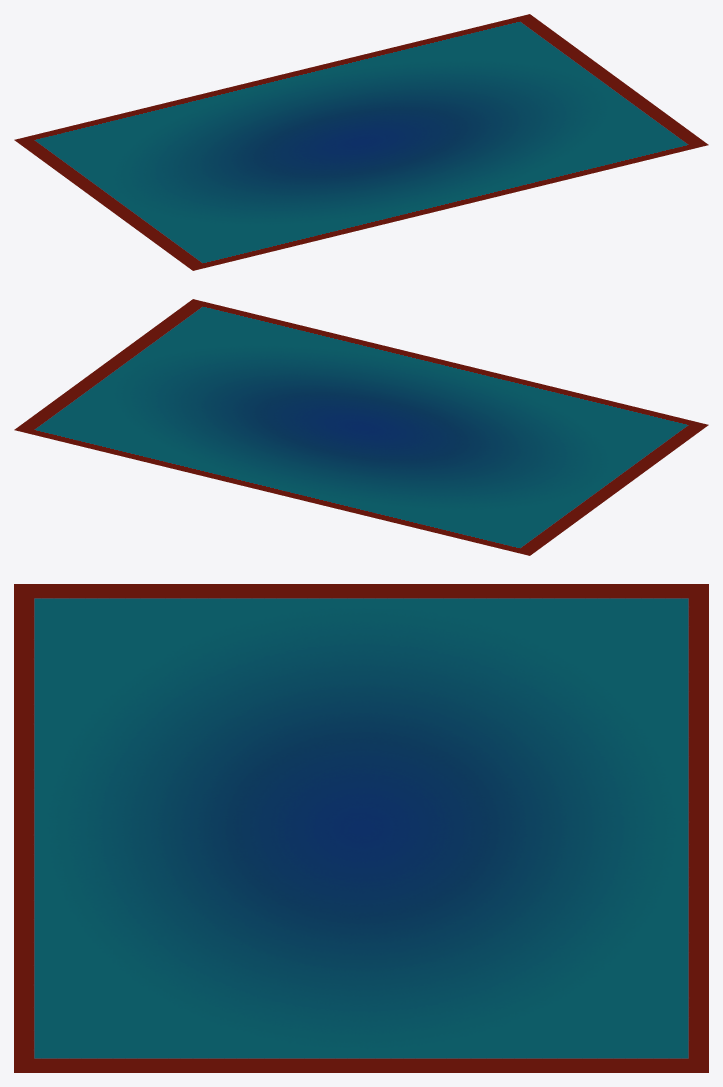
File: ground_plane.dae
3 renders of one model, top to bottom at view 1: azimuth 30°, elevation 25°; view 2: azimuth 150°, elevation 25°; view 3: azimuth 270°, elevation 25°, orthographic. The views are drawn at different scales.
Parts seen in each view (by area): view 1: Plane07; view 2: Plane07; view 3: Plane07.
Part boxes in pixels (left/top/right/bottom): Plane07: left=14, top=14, right=708, bottom=270; Plane07: left=14, top=299, right=708, bottom=555; Plane07: left=14, top=584, right=708, bottom=1072.
Bounding box in the file's own units: 837 × 0 × 503.
Materials: 1 (1 with a texture image).
